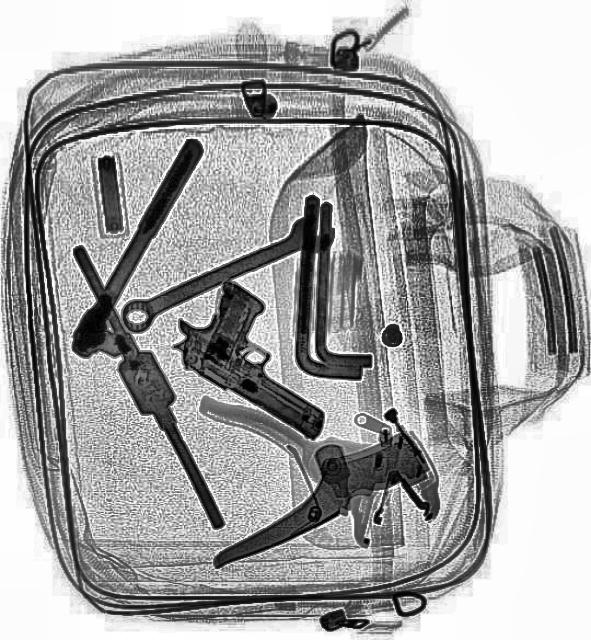Gun: (157, 268, 365, 444)
Wrench: (114, 206, 338, 340)
